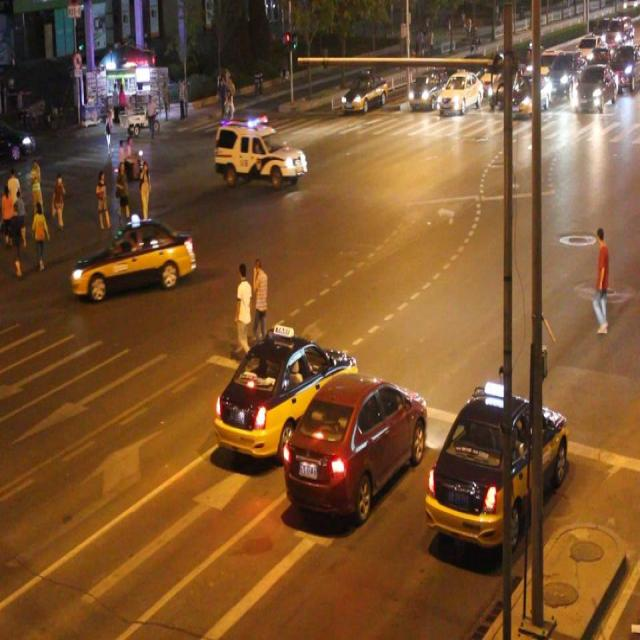car: (427, 385, 563, 551), (285, 371, 426, 516), (217, 323, 355, 458), (72, 215, 194, 293), (213, 119, 306, 186), (341, 70, 386, 113), (435, 71, 481, 112), (410, 67, 445, 108)
